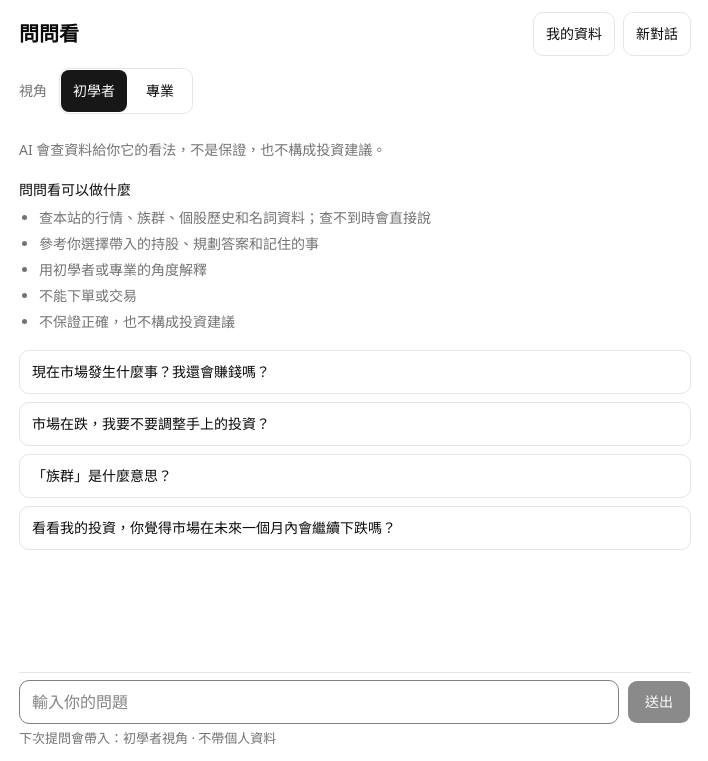
Test: chat: live-region roles › announces a refusal as one alert
Type "你好" into the text box named "提問" at (319, 702), box x1=19 y1=680 x2=619 y2=724
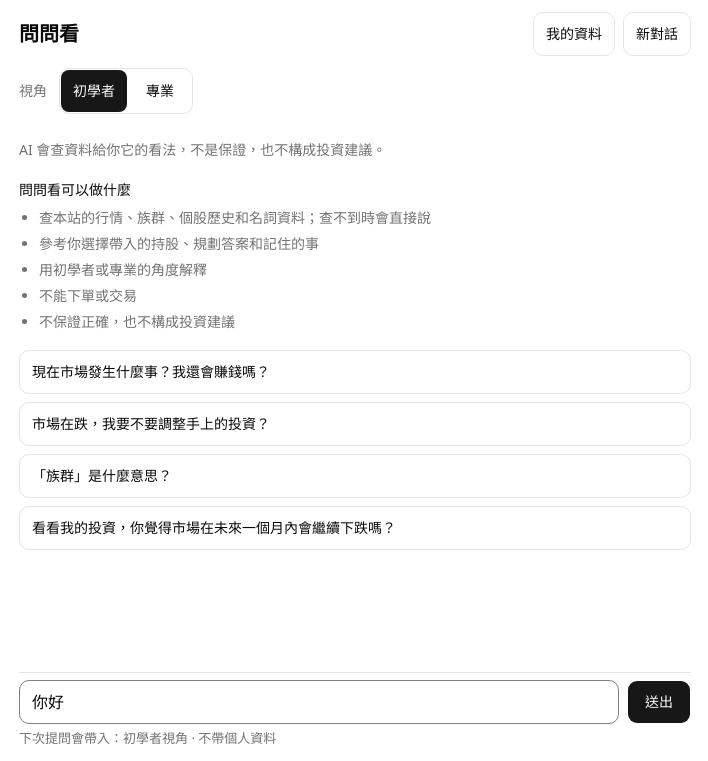
Click the button "送出" at (659, 702), box x1=627 y1=680 x2=691 y2=724
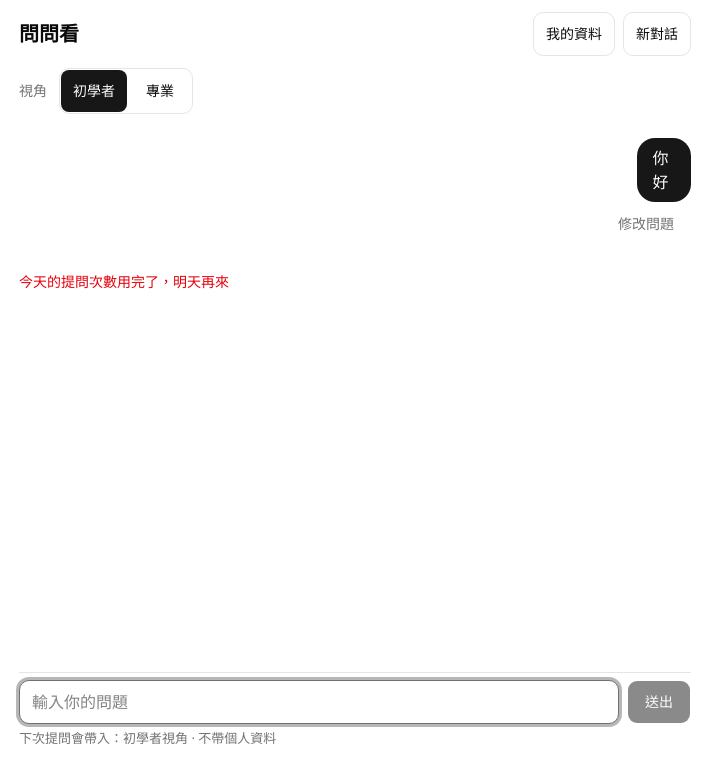
Now the message shows "今天的提問次數用完了", box x1=19 y1=272 x2=229 y2=291
Now the number of messages is 1, box x1=19 y1=270 x2=229 y2=294
